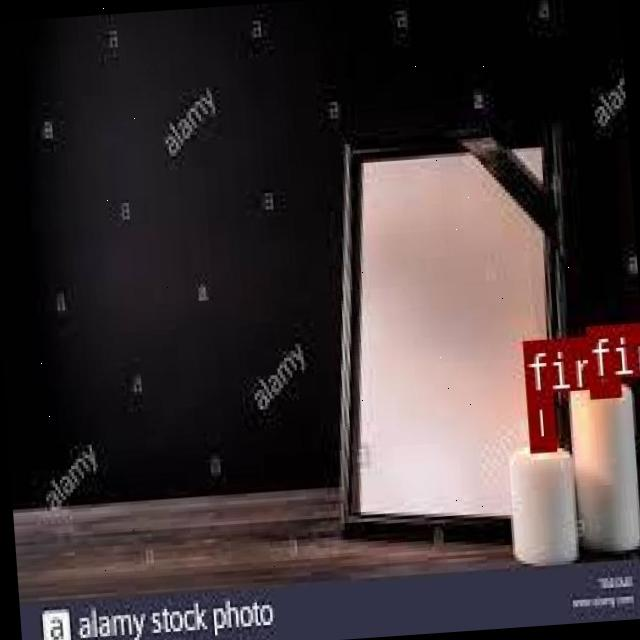fire: (583, 324, 618, 394), (526, 391, 554, 448)
